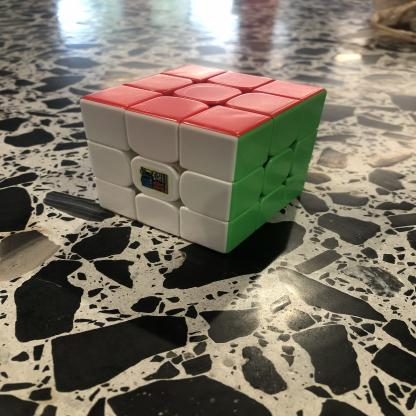SolvedCube: (86, 47, 328, 261)
